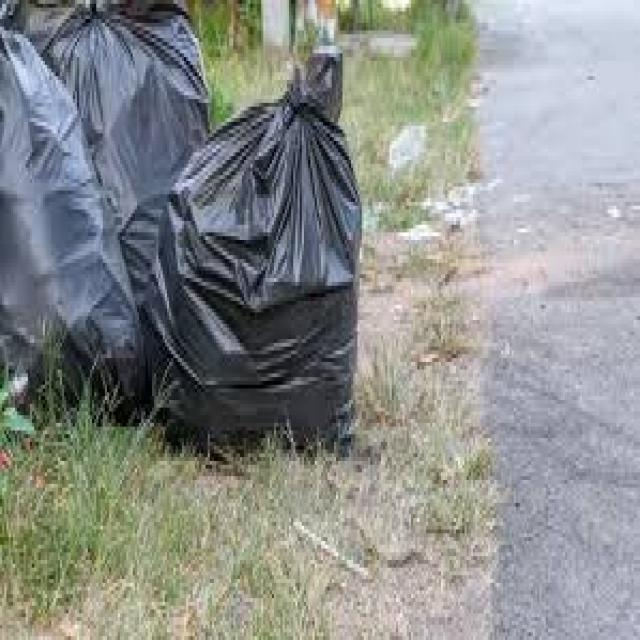garbage: (0, 0, 370, 461)
